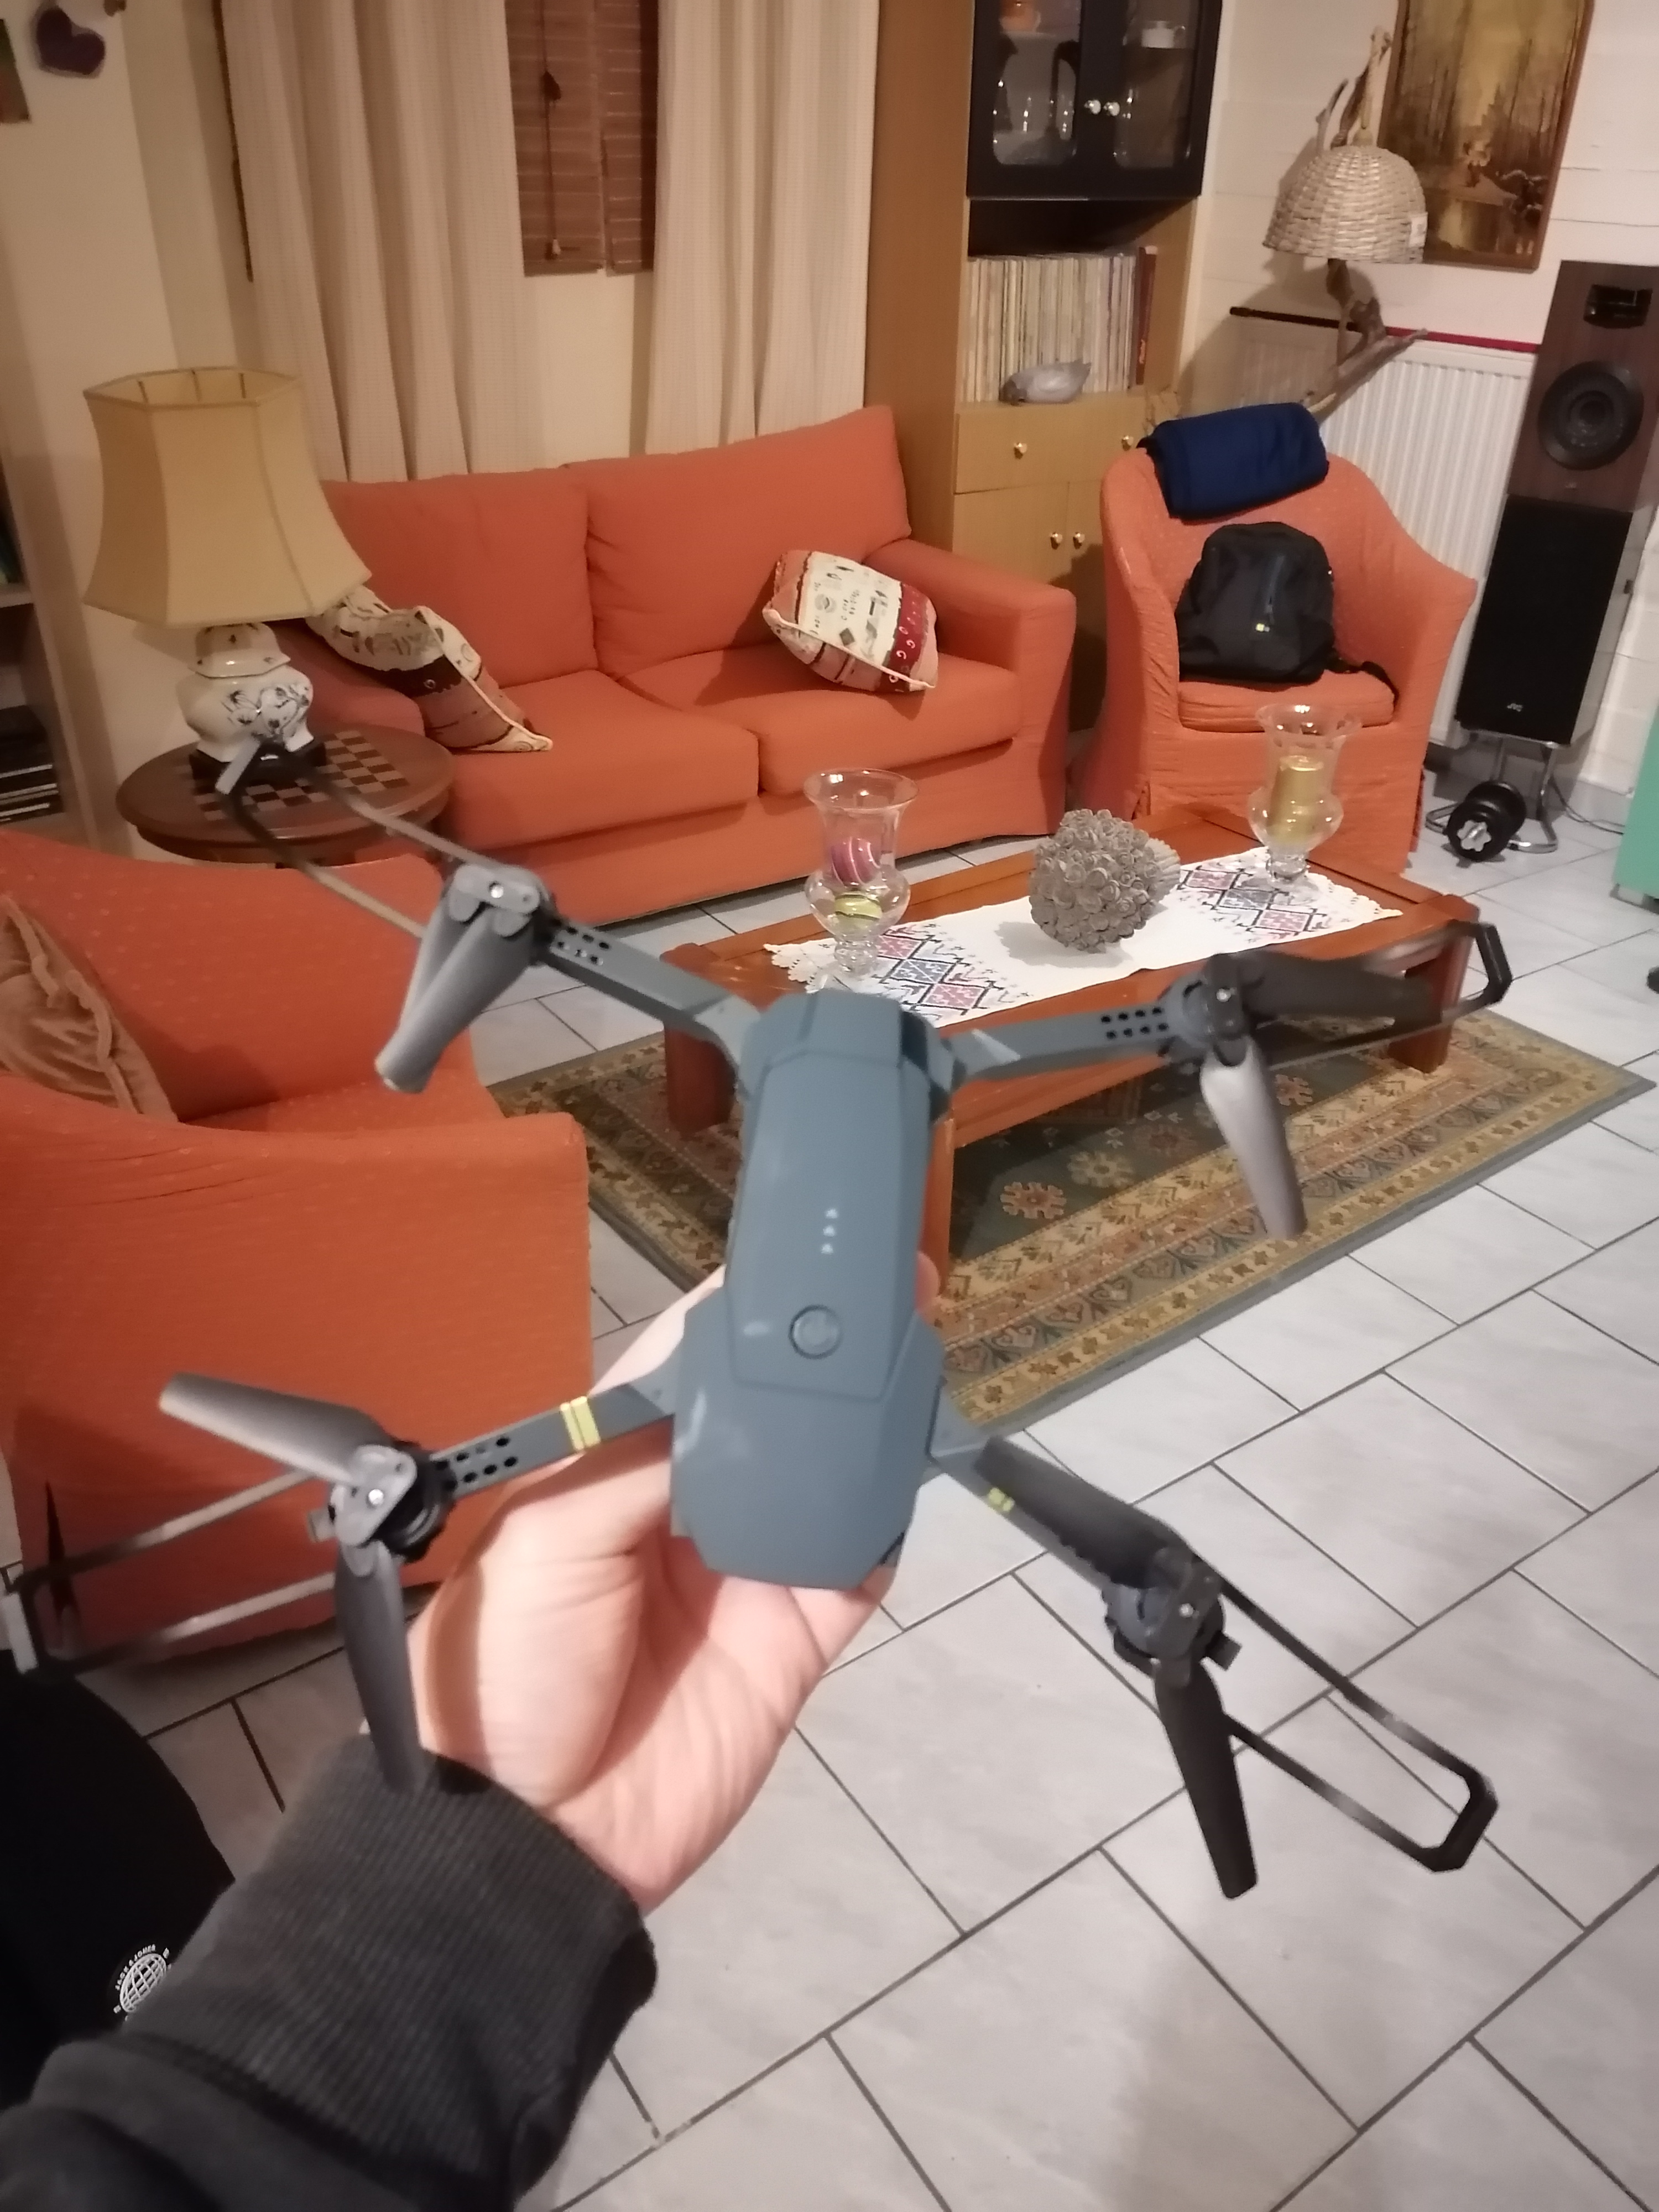drone: (213, 747, 1537, 1935)
